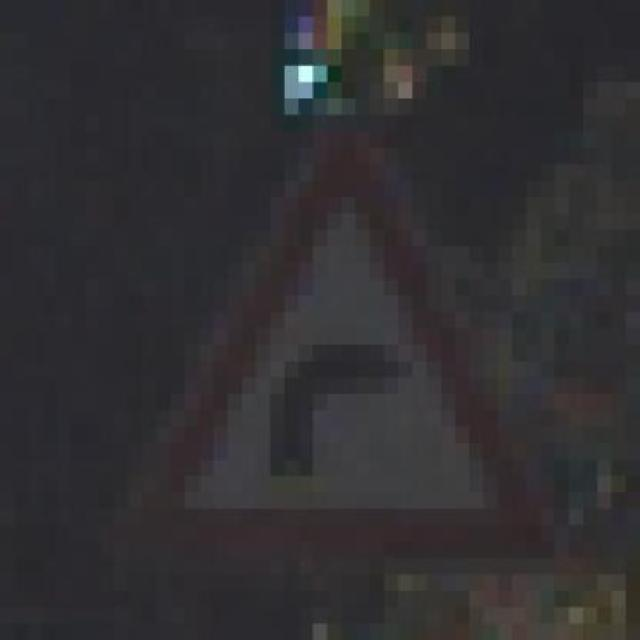Dangerous Rright Curve Ahead: (99, 115, 555, 558)
